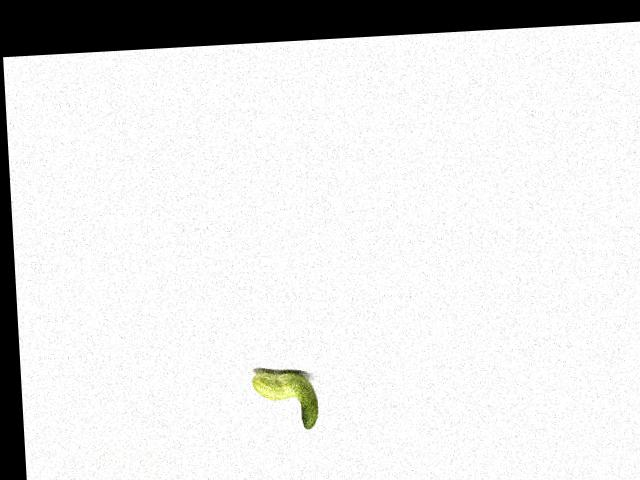cucumber: (252, 368, 320, 431)
